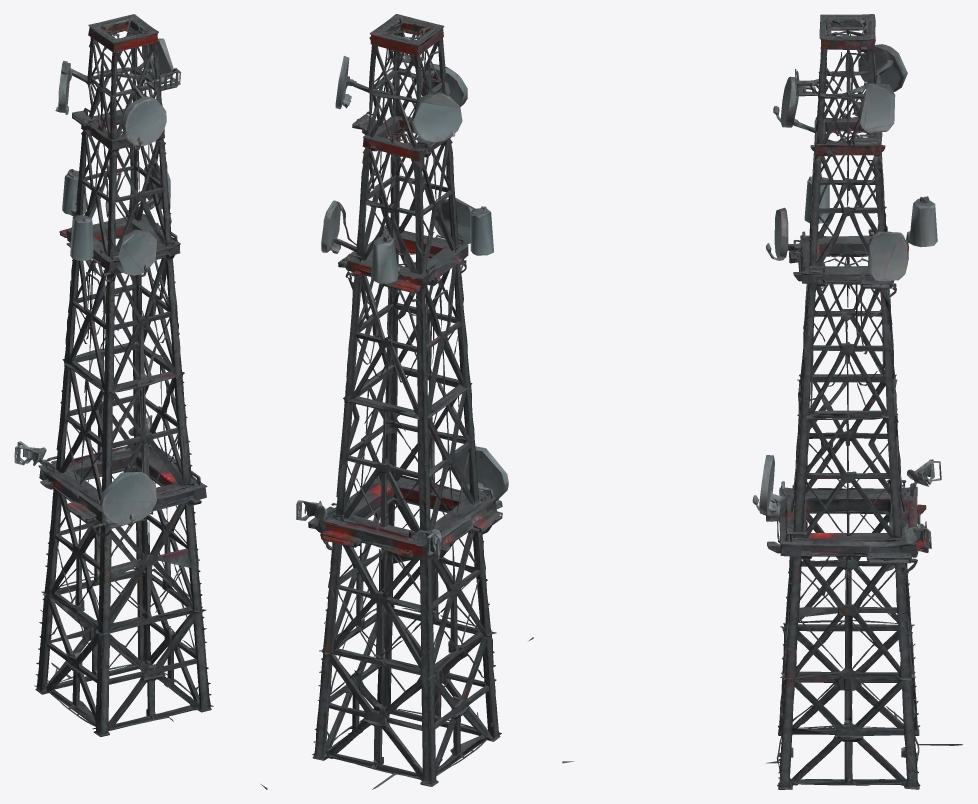
File: mx_map_radio_tower.glb
The picture shows the model from 3 angles, left to right: view 1: azimuth 30°, elevation 25°; view 2: azimuth 150°, elevation 25°; view 3: azimuth 270°, elevation 25°; orthographic projection. The views are drawn at different scales.
Bounding box in the file's own units: 0.4014 × 1.9 × 0.9423.
Materials: 1 (1 with a texture image).
